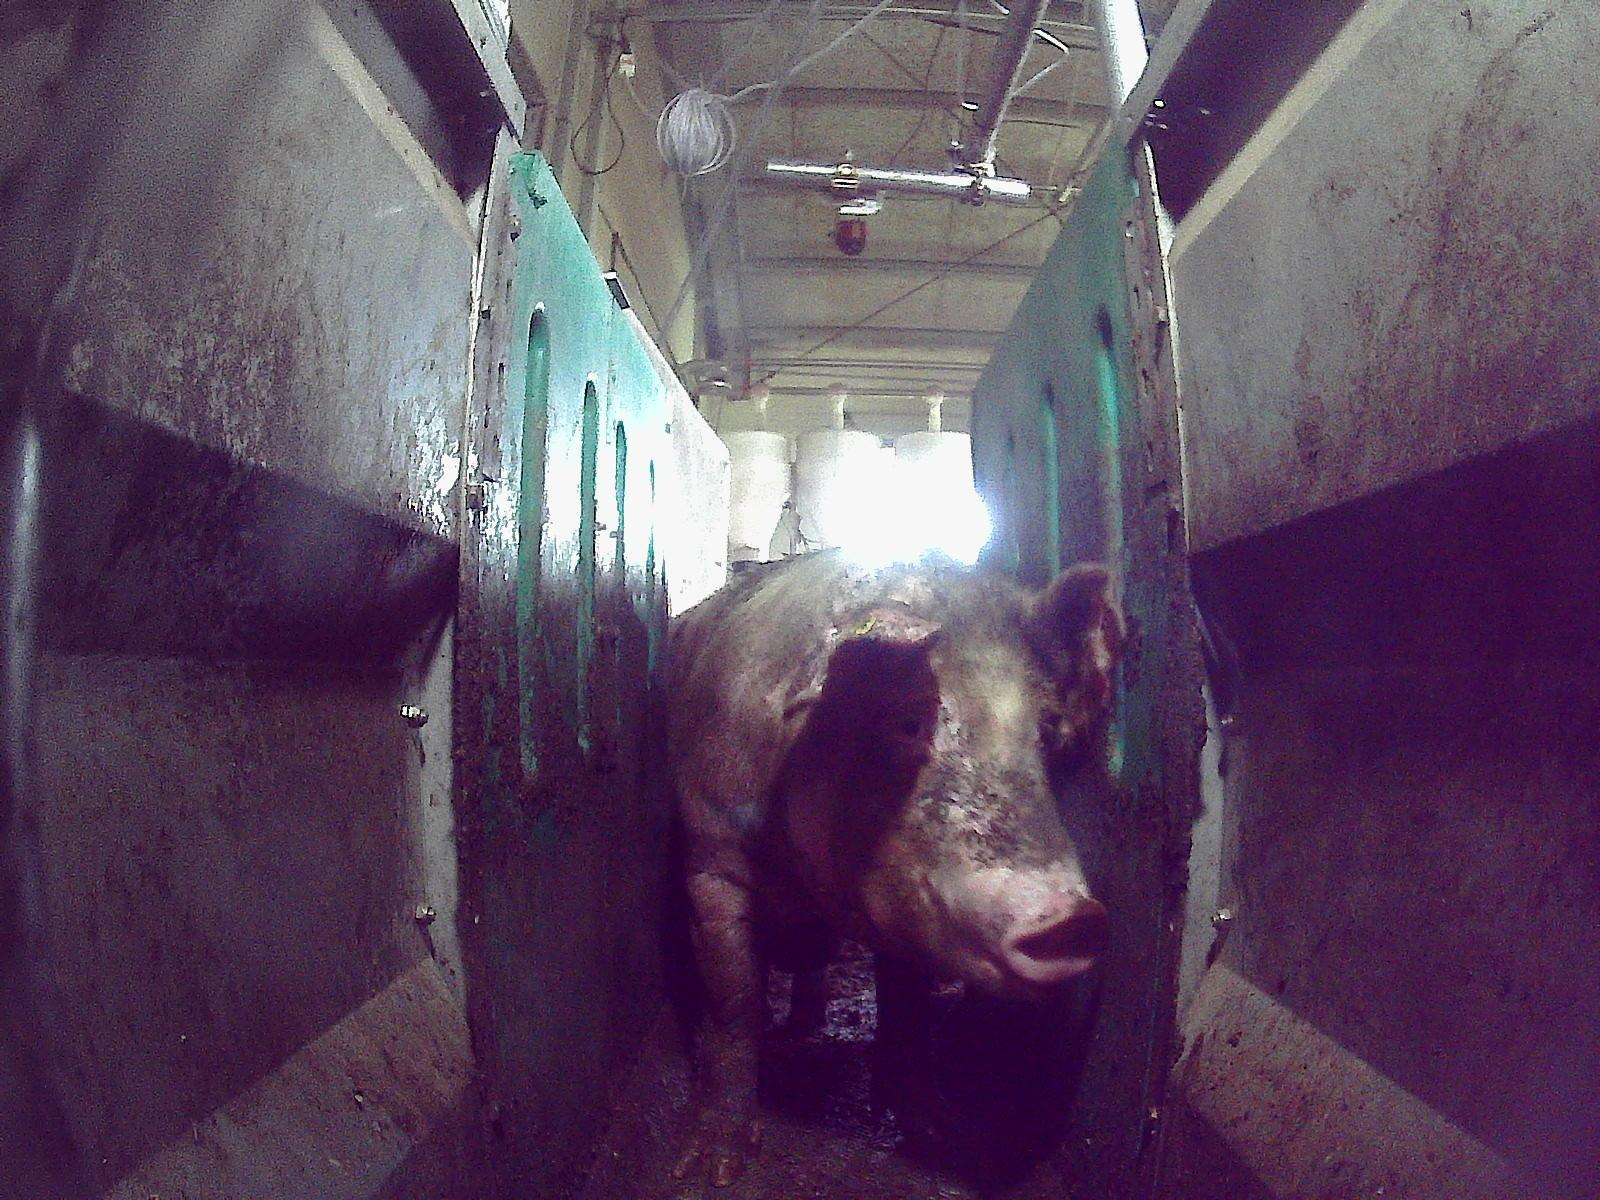Face: (771, 557, 1110, 1004)
